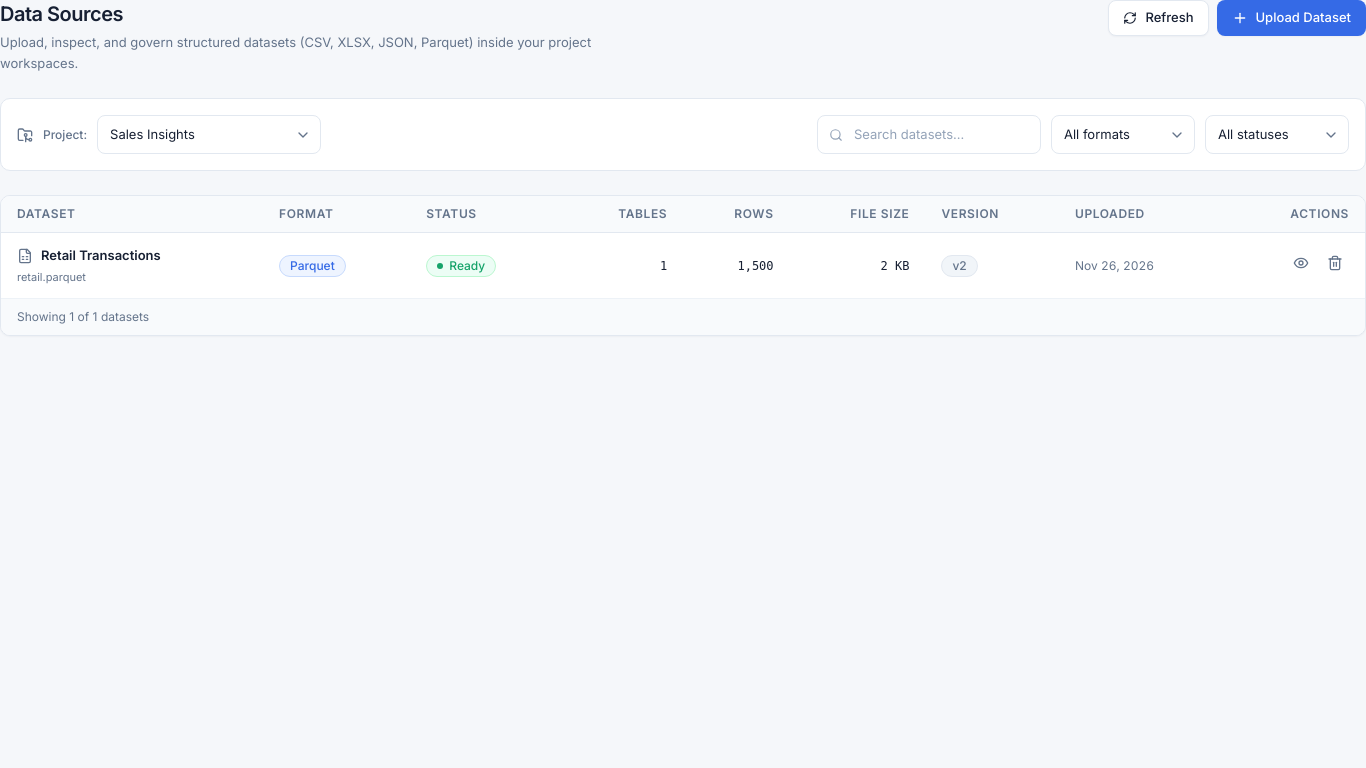
Test: Stage 2 Dashboard, Projects, Data Sources & Upload › DataSourcesPage renders table count, version, format filter, and ConfirmDialog archival
Expected: the text "Retail Transactions" is shown, [41,245,161,266]
Expected: the text "v2" is shown, [952,258,967,274]
Click the button named "Archive Retail Transactions".
click(1335, 263)  # box [1321,249,1349,277]
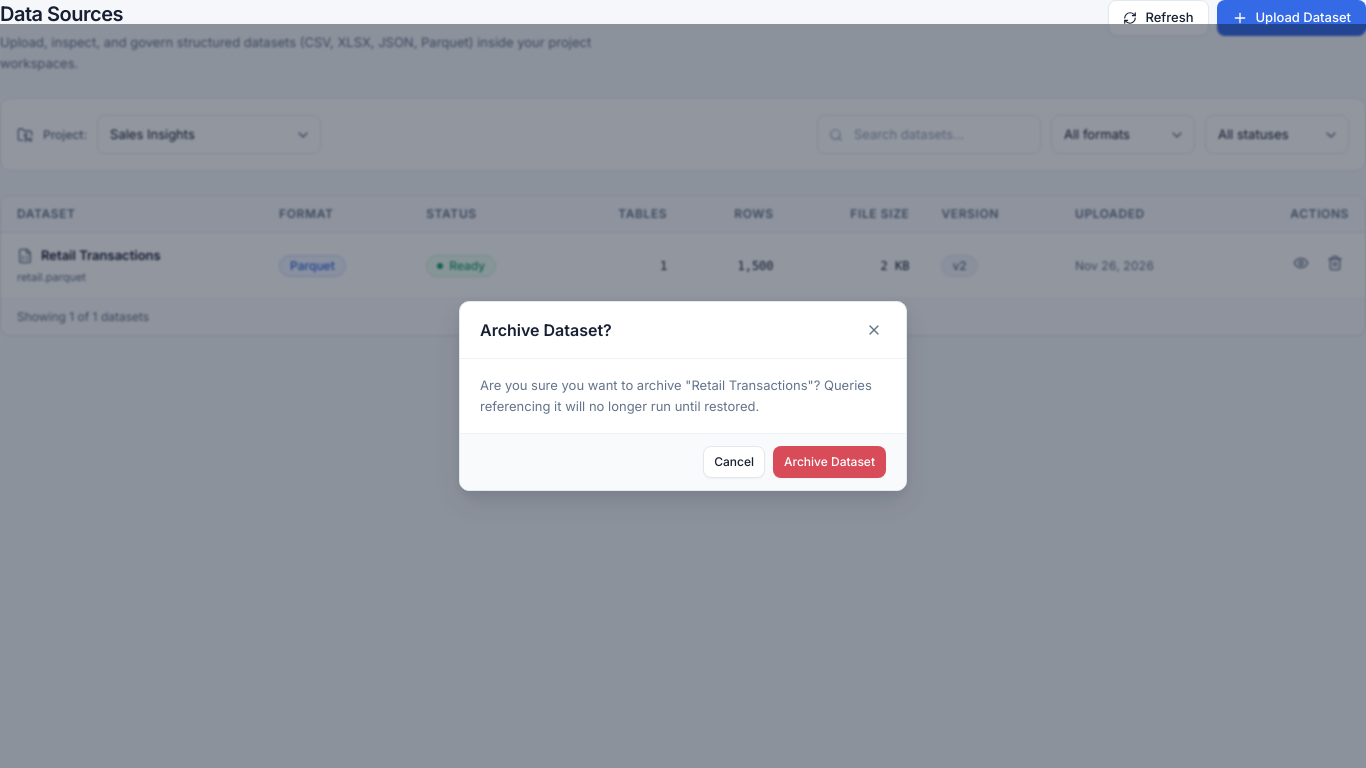
Expected: the heading "Archive Dataset?" is shown, [480,318,612,342]
